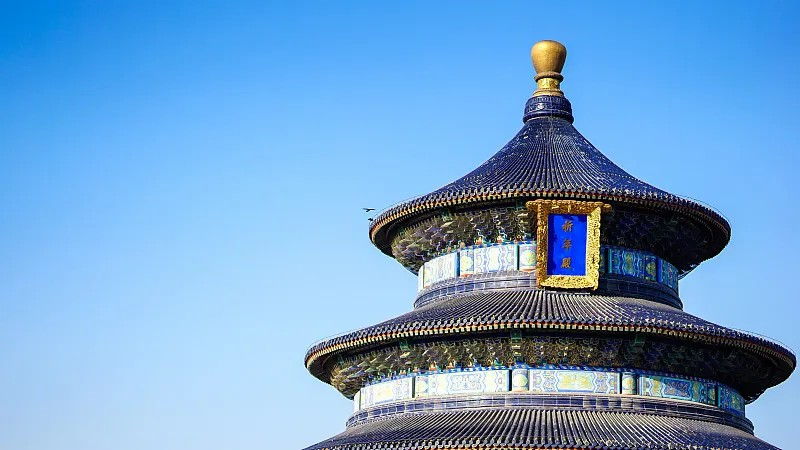Heaven: (301, 38, 796, 450)
